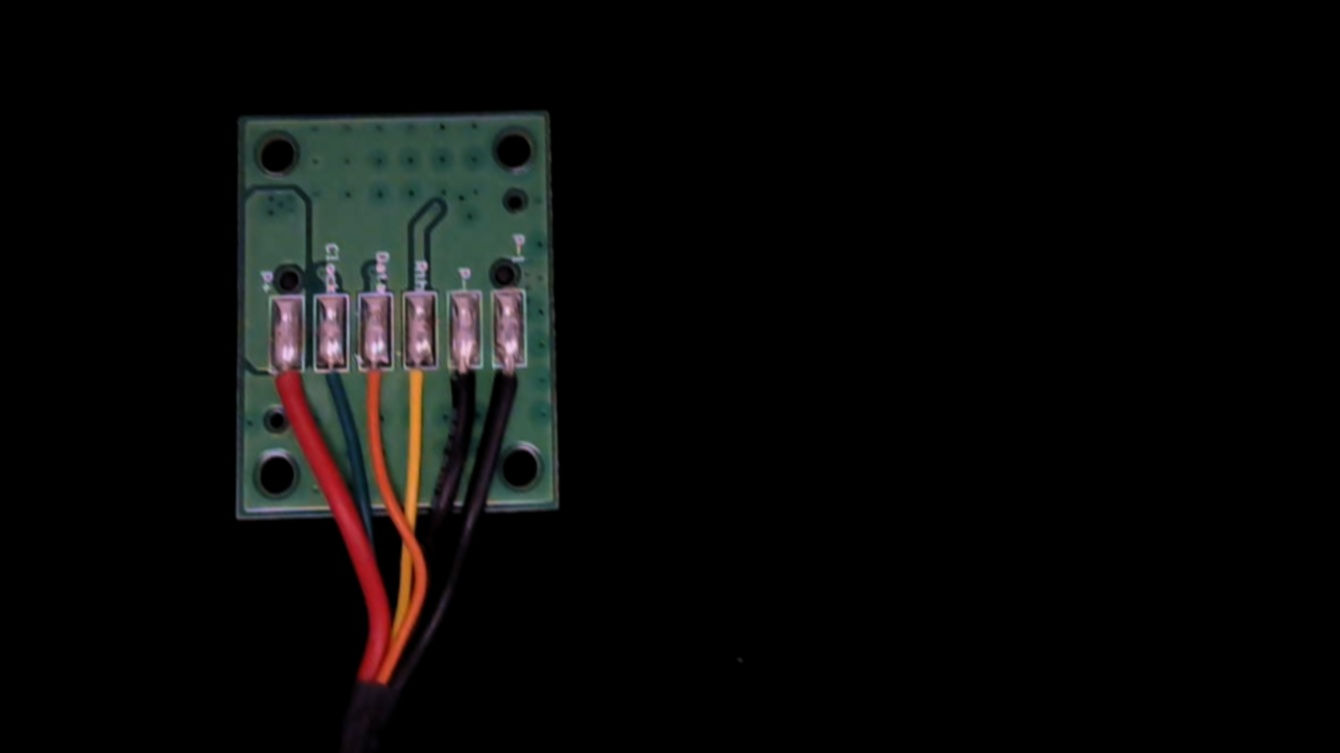Black: (444, 345, 483, 435)
Black1: (492, 342, 530, 425)
Green: (311, 343, 350, 417)
Orange: (356, 343, 393, 432)
Red: (268, 347, 307, 433)
Yellow: (403, 345, 442, 436)
